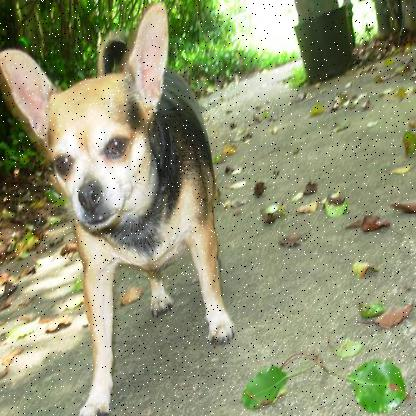dog: (6, 3, 238, 413)
